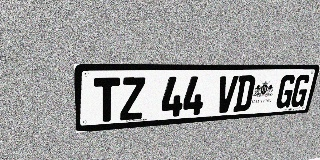4: (161, 76, 186, 117), (182, 76, 207, 116)
D: (233, 75, 256, 112)
G: (274, 75, 297, 109), (289, 74, 312, 108)
T: (94, 77, 120, 123)
V: (215, 76, 239, 113)
Z: (120, 77, 145, 121)
